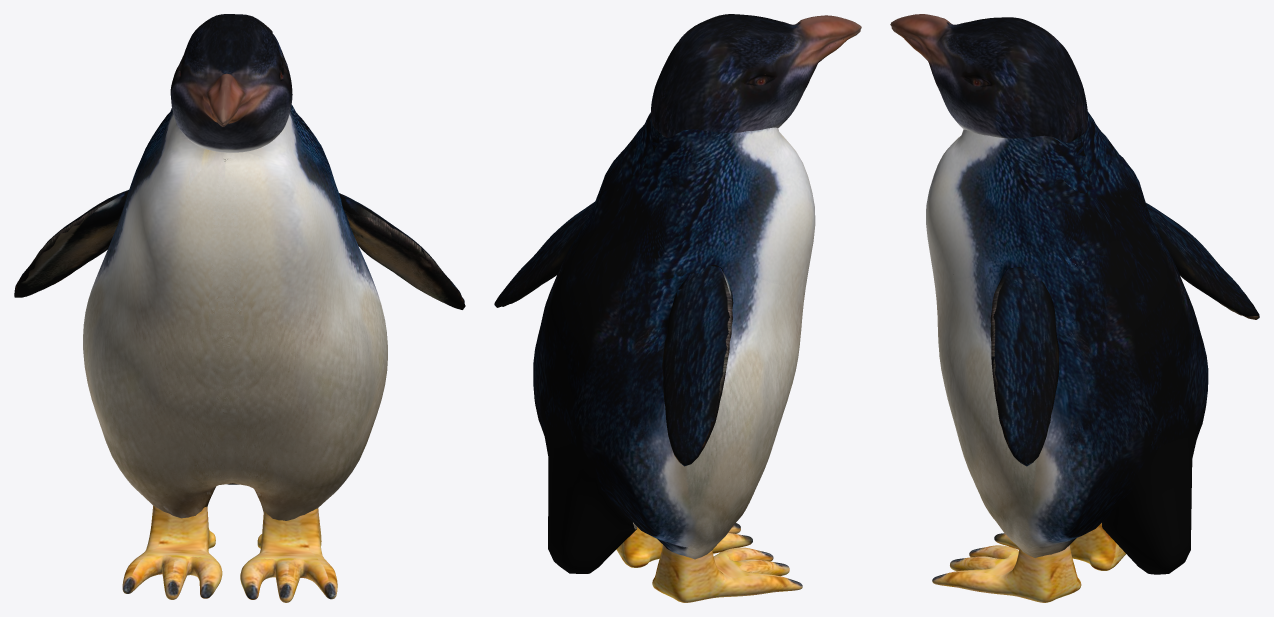
Rendered from pinguino.glb.
3 views of the same model, side by side, from view 1: azimuth 30°, elevation 25°; view 2: azimuth 150°, elevation 25°; view 3: azimuth 270°, elevation 25° (orthographic). The views are drawn at different scales.
Parts seen in each view (by area): view 1: Object_3, Object_6, Object_5; view 2: Object_3, Object_6, Object_5, Object_2; view 3: Object_3, Object_6, Object_5.
Part boxes in pixels (x1,y1,x2,y2): Object_3: (14, 104, 465, 520); Object_6: (170, 14, 292, 152); Object_5: (122, 506, 337, 602); Object_3: (494, 112, 815, 573); Object_6: (651, 14, 861, 137); Object_5: (616, 523, 802, 602); Object_2: (705, 40, 794, 78); Object_3: (926, 111, 1259, 574); Object_6: (890, 14, 1087, 142); Object_5: (932, 523, 1125, 602).
Bounding box in the file's own units: 0.4438 × 0.7158 × 0.4474.
Materials: 4 (4 with a texture image).
